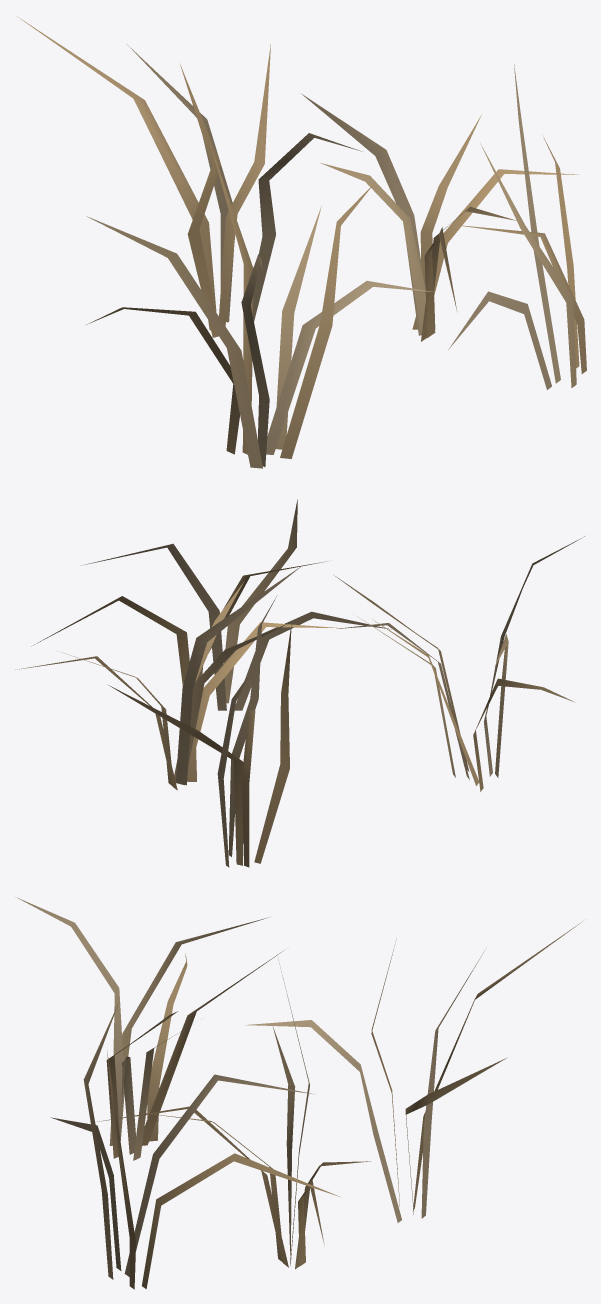
The model's file is Grass_f_TwoS_06.fbx.
The picture shows the model from 3 angles, top to bottom: view 1: azimuth 30°, elevation 25°; view 2: azimuth 150°, elevation 25°; view 3: azimuth 270°, elevation 25°; orthographic projection. The views are drawn at different scales.
Visible parts, largest first — view 1: Grass_f_TwoS_06; view 2: Grass_f_TwoS_06; view 3: Grass_f_TwoS_06.
Part boxes in pixels (box(x1,y1,x2,y2)): Grass_f_TwoS_06: box(17, 16, 586, 468); Grass_f_TwoS_06: box(15, 499, 584, 867); Grass_f_TwoS_06: box(17, 897, 582, 1289).
Size of the model in its own units: 88.71 by 43.01 by 84.87.
